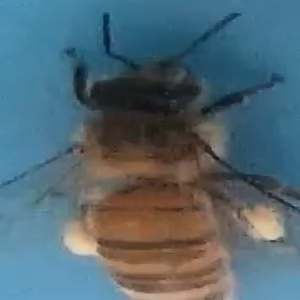bee: (37, 11, 297, 300)
